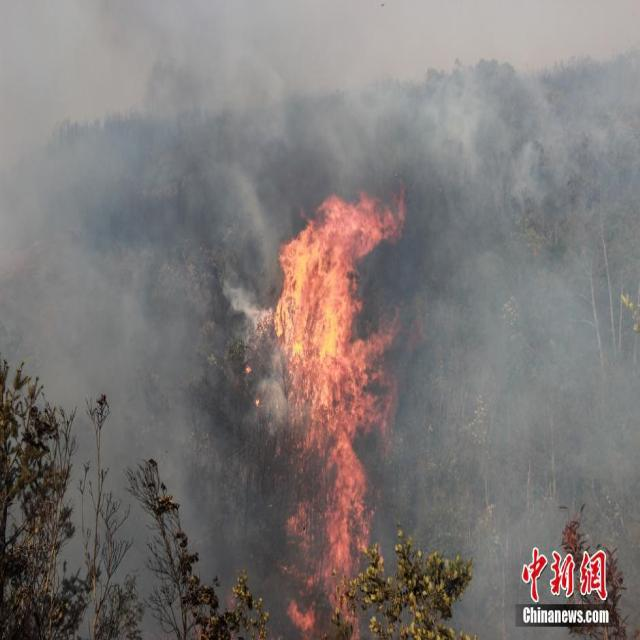fire: (236, 184, 406, 616)
